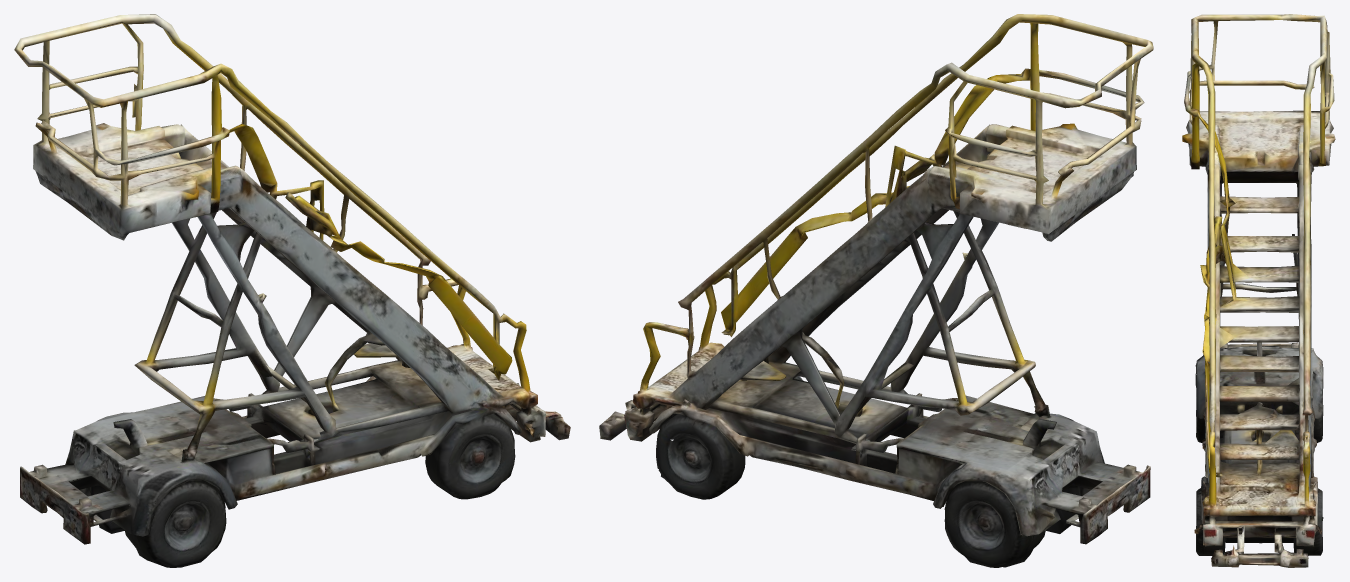
File: ap_airstairs.glb
3 renders of one model, left to right at view 1: azimuth 30°, elevation 25°; view 2: azimuth 150°, elevation 25°; view 3: azimuth 270°, elevation 25°, orthographic. The views are drawn at different scales.
Visible parts, largest first — view 1: tripo_node_3f670dd0-befd-4326-b0b1-4adb4963a79a; view 2: tripo_node_3f670dd0-befd-4326-b0b1-4adb4963a79a; view 3: tripo_node_3f670dd0-befd-4326-b0b1-4adb4963a79a.
Boxes of the visible parts, box(x1,y1,x2,y2) form: tripo_node_3f670dd0-befd-4326-b0b1-4adb4963a79a: box(14, 14, 570, 567); tripo_node_3f670dd0-befd-4326-b0b1-4adb4963a79a: box(599, 14, 1153, 567); tripo_node_3f670dd0-befd-4326-b0b1-4adb4963a79a: box(1182, 14, 1335, 567).
Size of the model in its own units: 0.9781 by 0.9292 by 0.3312.
1 material, 1 textured.
